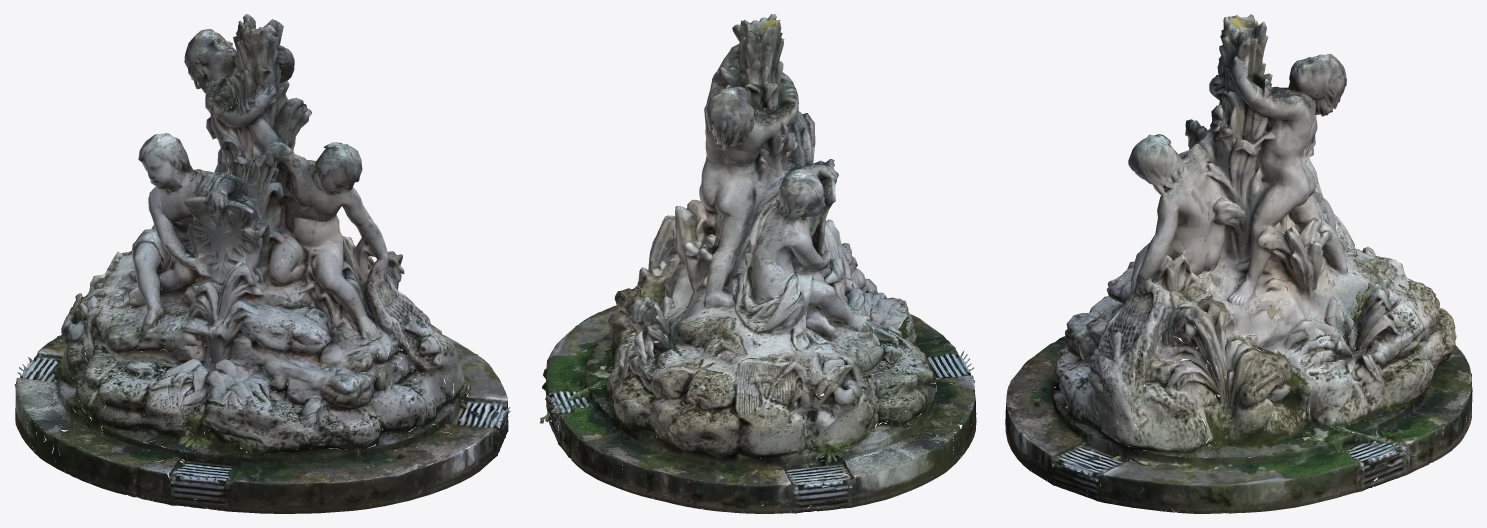
File: fn-brno.glb
The picture shows the model from 3 angles, left to right: view 1: azimuth 30°, elevation 25°; view 2: azimuth 150°, elevation 25°; view 3: azimuth 270°, elevation 25°; orthographic projection.
Parts seen in each view (by area): view 1: kasna_luzanky_kasna_luzanky_0; view 2: kasna_luzanky_kasna_luzanky_0; view 3: kasna_luzanky_kasna_luzanky_0.
Boxes of the visible parts, left/top/right/bottom form: kasna_luzanky_kasna_luzanky_0: left=14, top=14, right=510, bottom=513; kasna_luzanky_kasna_luzanky_0: left=540, top=14, right=976, bottom=513; kasna_luzanky_kasna_luzanky_0: left=1005, top=14, right=1472, bottom=513.
Bounding box in the file's own units: 3.25 × 3.05 × 3.26.
1 material, 1 textured.
